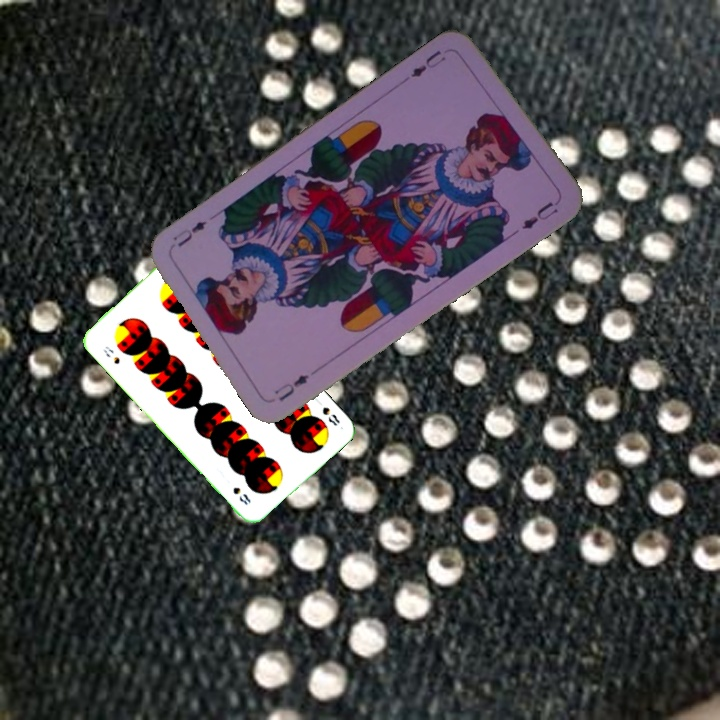EU: (406, 46, 449, 80), (270, 370, 312, 404)
S8: (312, 395, 342, 429), (99, 342, 122, 367)
